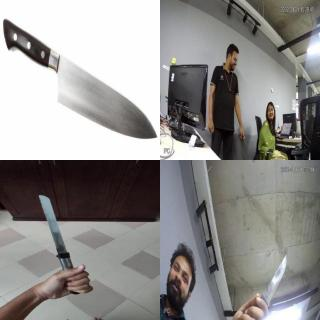knife: (41, 24, 158, 153), (33, 193, 75, 265), (252, 255, 286, 305), (239, 131, 249, 148)
